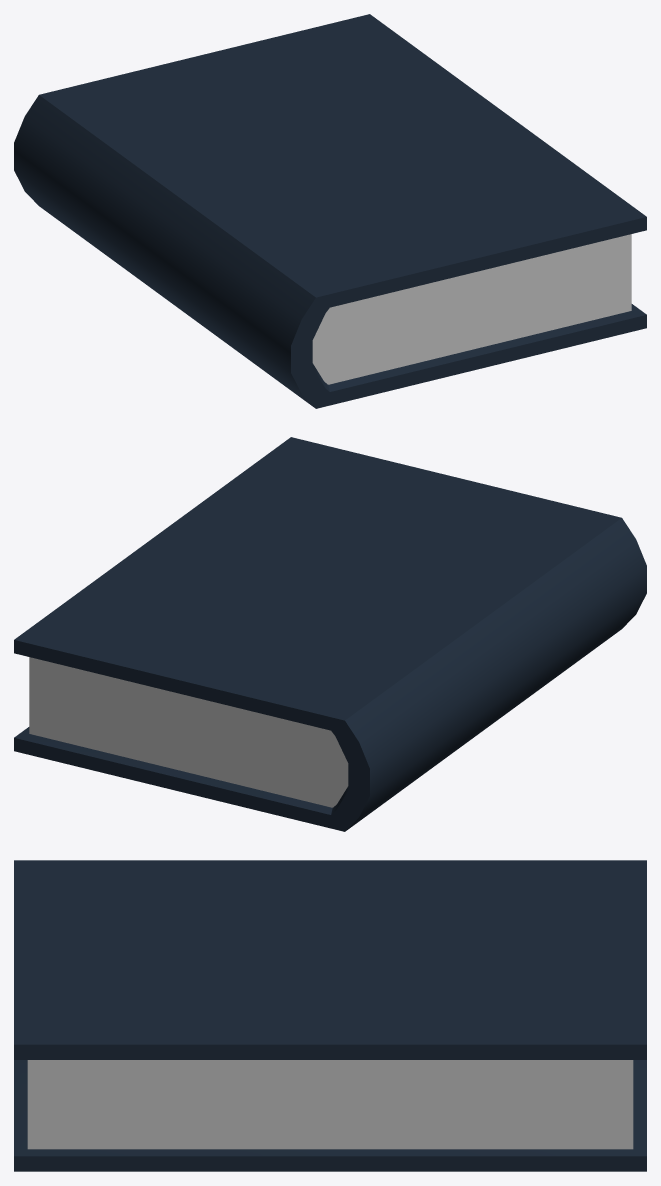
File: book.gltf
The picture shows the model from 3 angles, top to bottom: view 1: azimuth 30°, elevation 25°; view 2: azimuth 150°, elevation 25°; view 3: azimuth 270°, elevation 25°; orthographic projection. The views are drawn at different scales.
Visible parts, largest first — view 1: Book_5; view 2: Book_5; view 3: Book_5.
Part boxes in pixels (bbox=[...]): Book_5: bbox=[14, 14, 646, 408]; Book_5: bbox=[14, 437, 646, 831]; Book_5: bbox=[14, 860, 646, 1171].
Size of the model in its own units: 0.2129 by 0.0636 by 0.2871.
